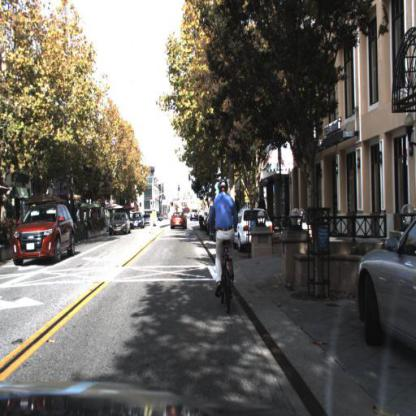biker: (212, 179, 240, 312)
car: (356, 213, 416, 359), (11, 200, 78, 268), (235, 204, 277, 253), (107, 212, 131, 238), (169, 208, 190, 233), (110, 218, 131, 239), (129, 213, 146, 231), (190, 209, 200, 224)
pedestrian: (11, 196, 78, 267)
